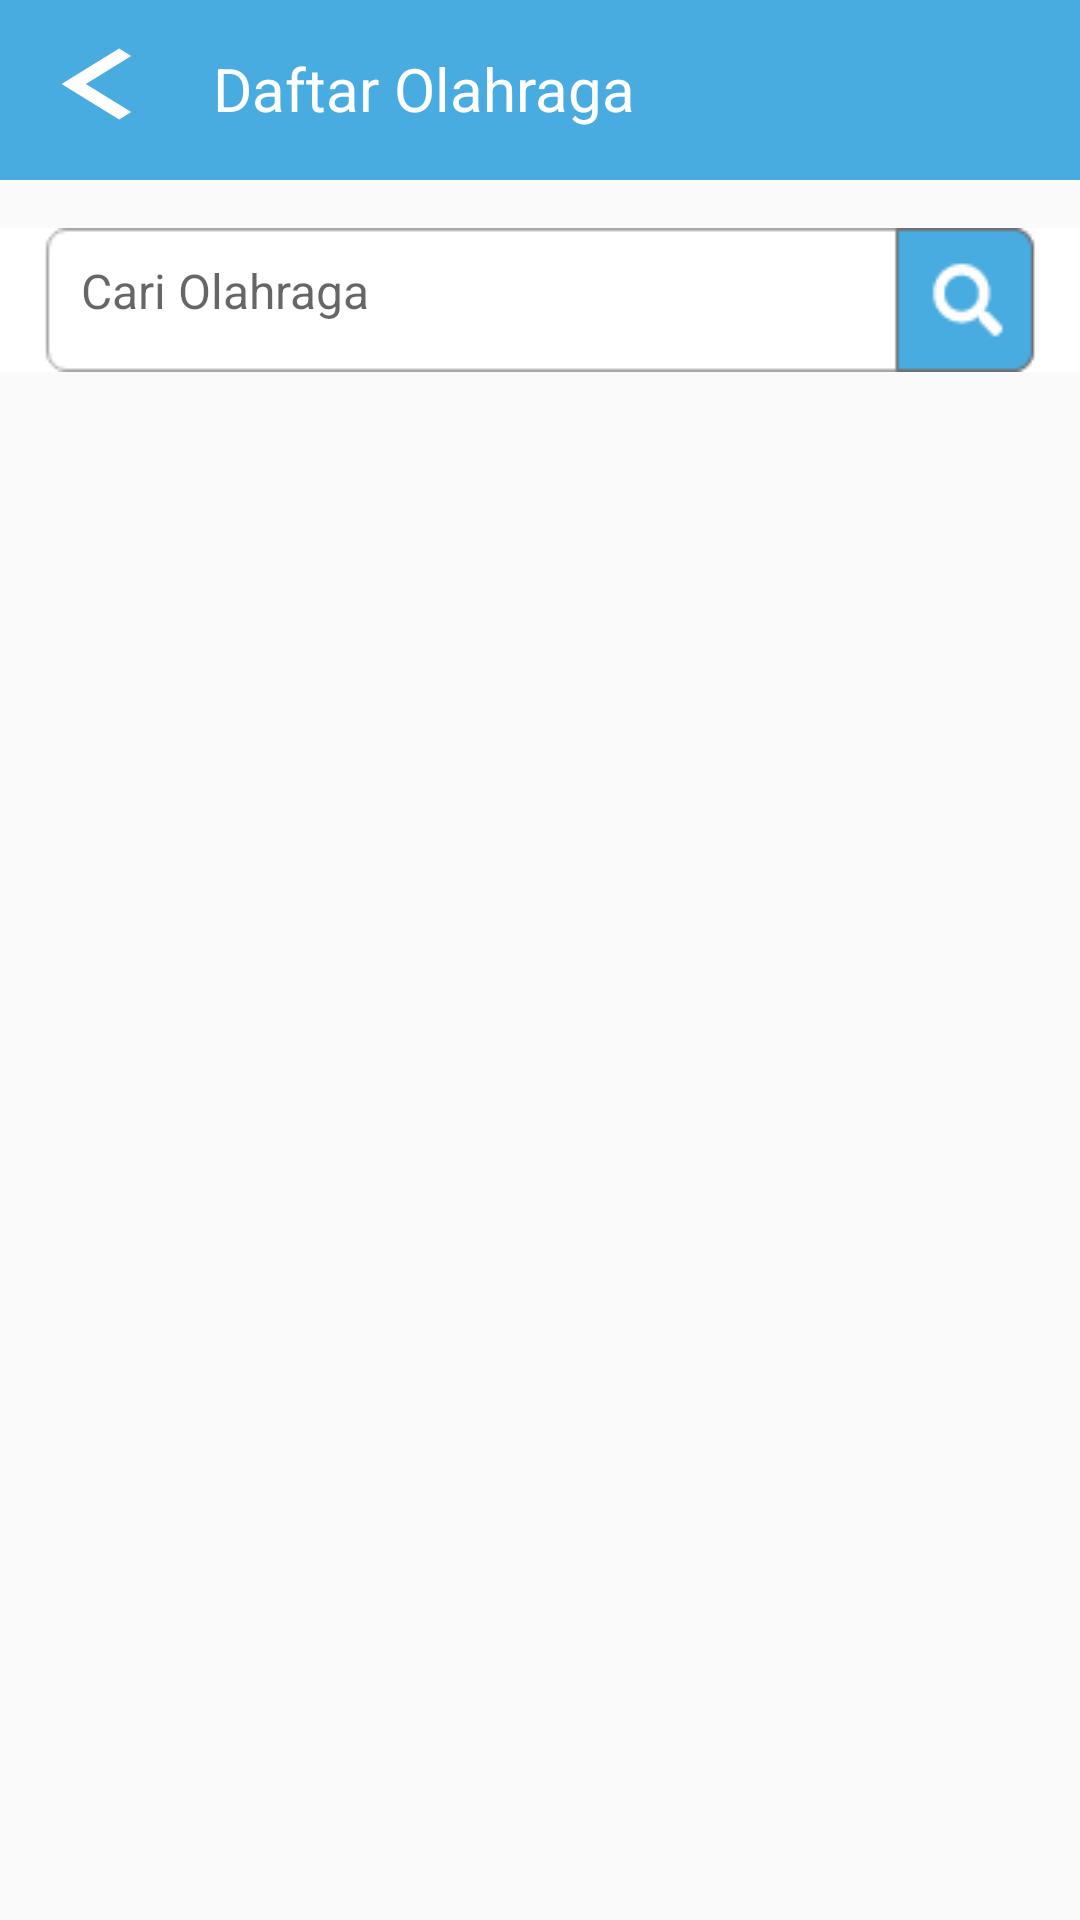

Screen size 1080×1920. Icon name, then its center in pixels as [x,y]:
back: [96,84]
